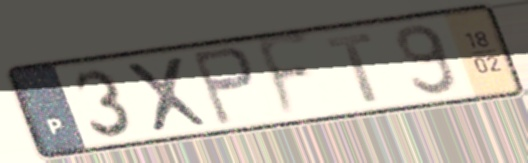3: (72, 66, 133, 140)
9: (392, 22, 460, 99)
F: (252, 30, 317, 125)
P: (187, 44, 259, 128)
T: (322, 30, 383, 106)
X: (120, 53, 216, 136)
